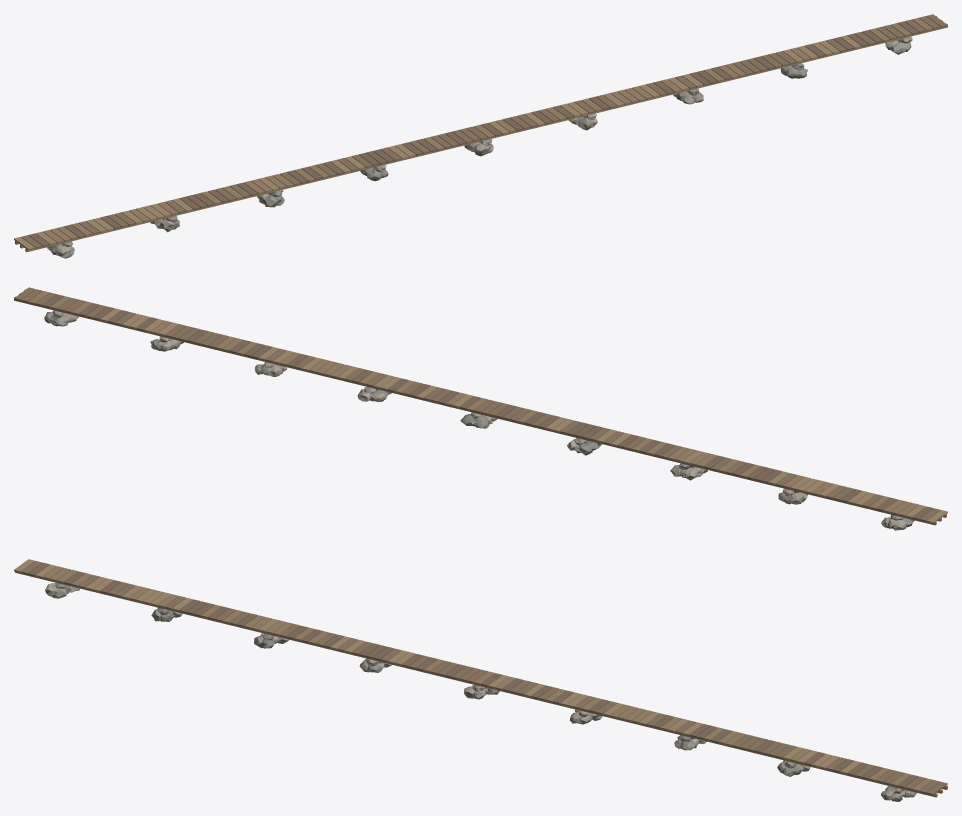
3 renders of one model, top to bottom at view 1: azimuth 30°, elevation 25°; view 2: azimuth 150°, elevation 25°; view 3: azimuth 330°, elevation 25°, orthographic.
Parts seen in each view (by area): view 1: world; view 2: world; view 3: world.
Boxes of the visible parts, x1,y1,x2,y2 form: world: [14, 14, 947, 258]; world: [14, 287, 947, 530]; world: [14, 559, 947, 801].
Bounding box in the file's own units: 109 × 2.34 × 3.81.
